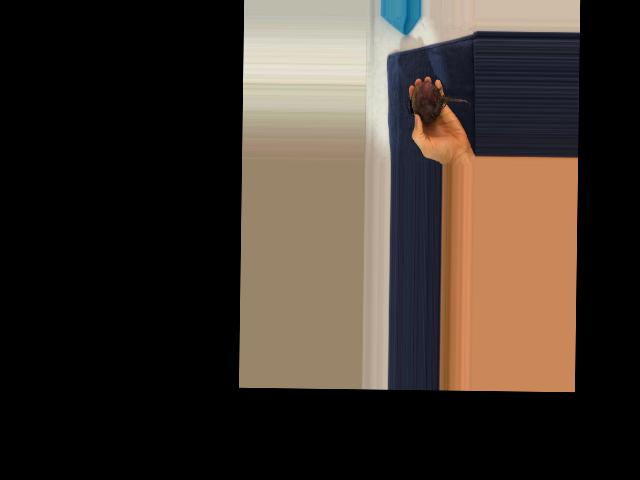beet: (406, 81, 471, 123)
